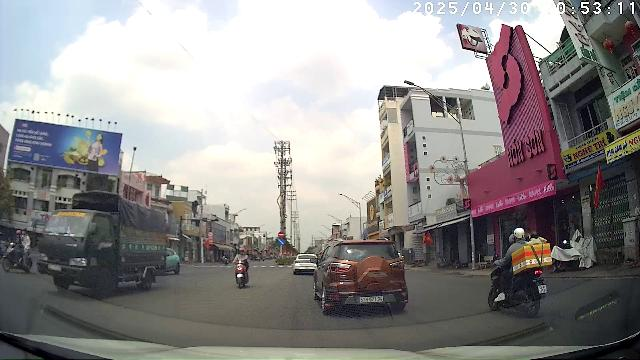102-cam-di-nguoc-chieu: (278, 231, 286, 239)
302a-huong-phai-di-vong-chuong-ngai-vat-1: (277, 238, 286, 246)
